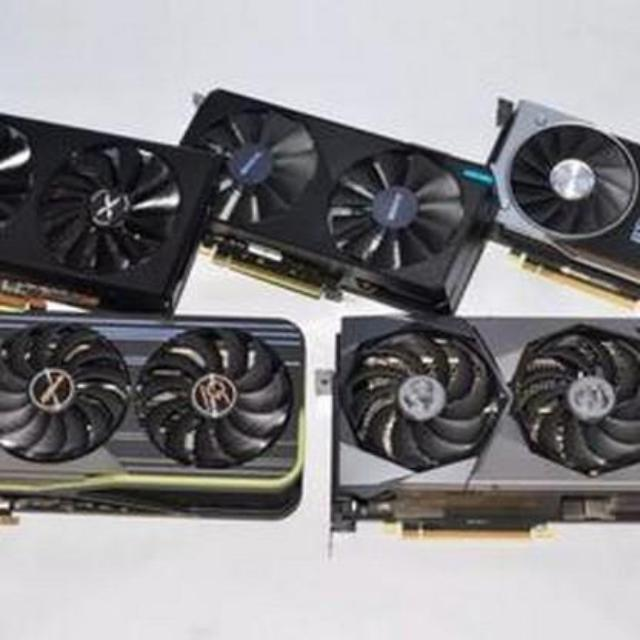GPU: (174, 80, 502, 314), (325, 312, 640, 543), (0, 309, 309, 522), (0, 106, 220, 320), (484, 73, 640, 309)
